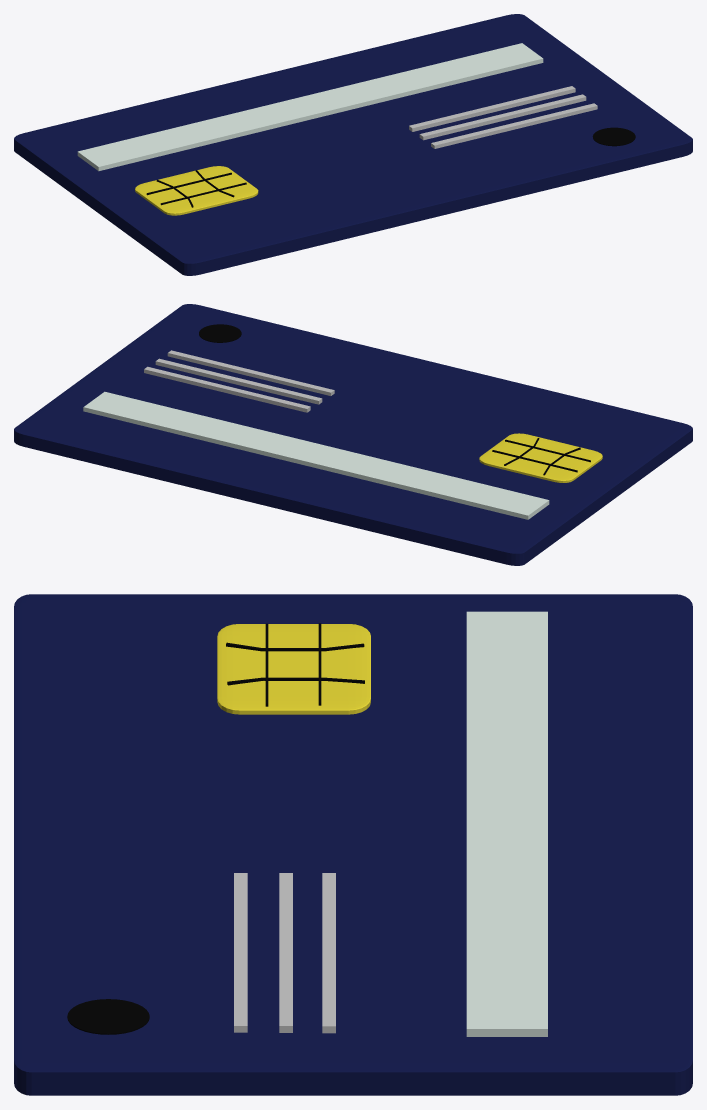
Rendered from AccessKeycard.fbx.
3 renders of one model, top to bottom at view 1: azimuth 30°, elevation 25°; view 2: azimuth 150°, elevation 25°; view 3: azimuth 270°, elevation 25°, orthographic. The views are drawn at different scales.
Visible parts, largest first — view 1: Keycard_Body; view 2: Keycard_Body; view 3: Keycard_Body.
Boxes of the visible parts, x1,y1,x2,y2 form: Keycard_Body: (14, 14, 692, 275); Keycard_Body: (14, 304, 692, 565); Keycard_Body: (14, 594, 692, 1095).
Size of the model in its own units: 500 by 19.13 by 300.
